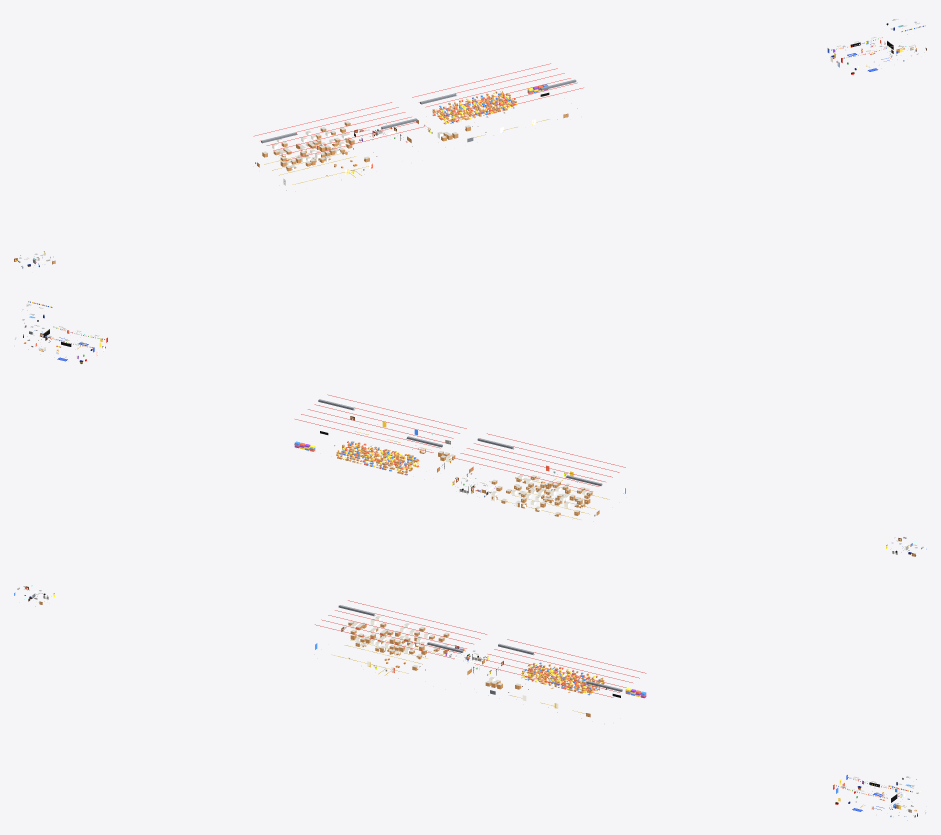
File: SM_Harbor_Interior_NoCol.fbx
3 views of the same model, one above another, from view 1: azimuth 30°, elevation 25°; view 2: azimuth 150°, elevation 25°; view 3: azimuth 330°, elevation 25° (orthographic).
Parts seen in each view (by area): view 1: SM_Harbor_Interior_NoCol; view 2: SM_Harbor_Interior_NoCol; view 3: SM_Harbor_Interior_NoCol.
Boxes of the visible parts, box(x1,y1,x2,y2) form: SM_Harbor_Interior_NoCol: box(14, 19, 926, 268); SM_Harbor_Interior_NoCol: box(15, 301, 926, 556); SM_Harbor_Interior_NoCol: box(14, 585, 925, 820).
Bounding box in the file's own units: 255 × 8.77 × 29.45.
